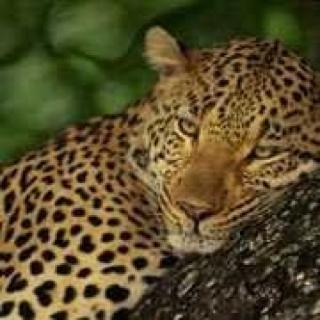Leopard: (10, 42, 320, 320)
